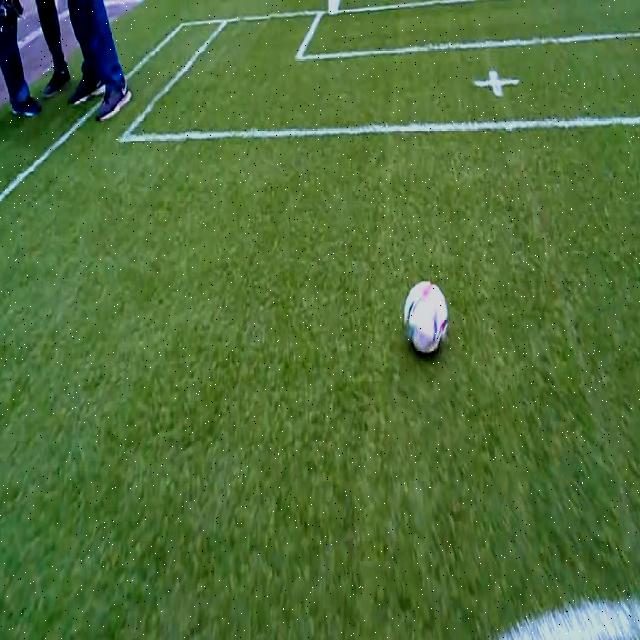ball: (403, 280, 449, 354)
